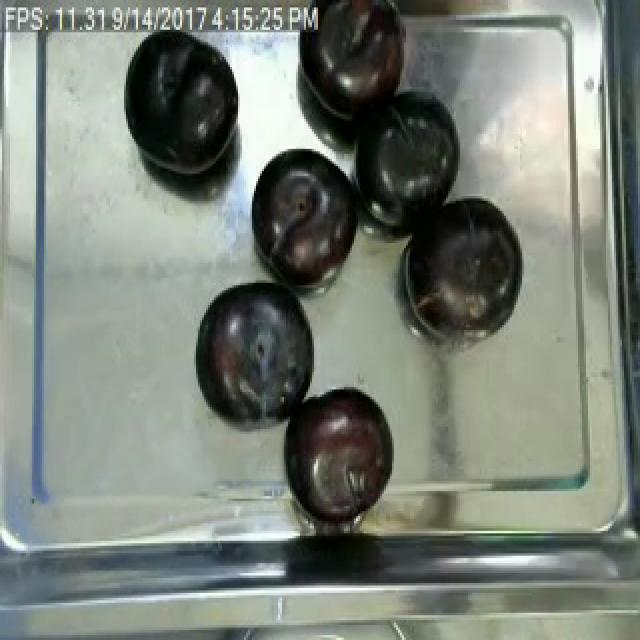Fruit: (118, 27, 248, 186), (190, 275, 318, 427), (400, 188, 522, 338), (246, 144, 364, 298), (280, 382, 394, 521), (310, 0, 418, 119)
